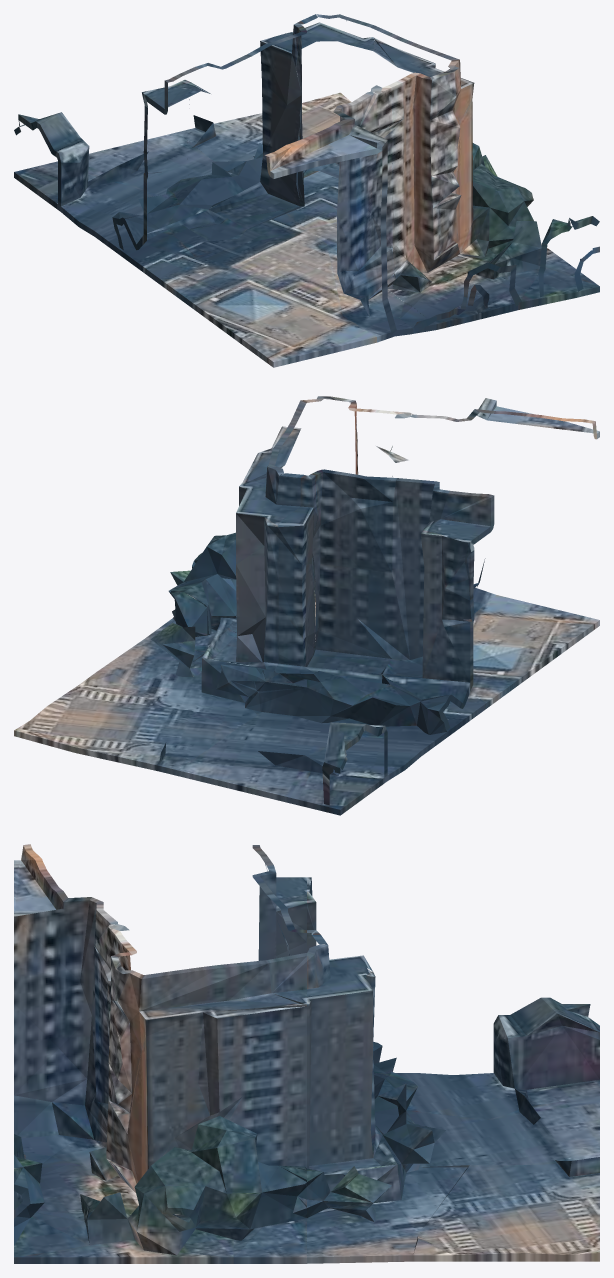
The model's file is chunk_7_-2.glb.
The picture shows the model from 3 angles, top to bottom: view 1: azimuth 30°, elevation 25°; view 2: azimuth 150°, elevation 25°; view 3: azimuth 270°, elevation 25°; orthographic projection. The views are drawn at different scales.
Visible parts, largest first — view 1: hero-chunk; view 2: hero-chunk; view 3: hero-chunk.
Boxes of the visible parts, bbox=[...] form: hero-chunk: bbox=[14, 14, 599, 367]; hero-chunk: bbox=[14, 396, 599, 815]; hero-chunk: bbox=[14, 844, 599, 1263].
Size of the model in its own units: 55.73 by 34.34 by 76.32.
2 materials, 2 textured.
